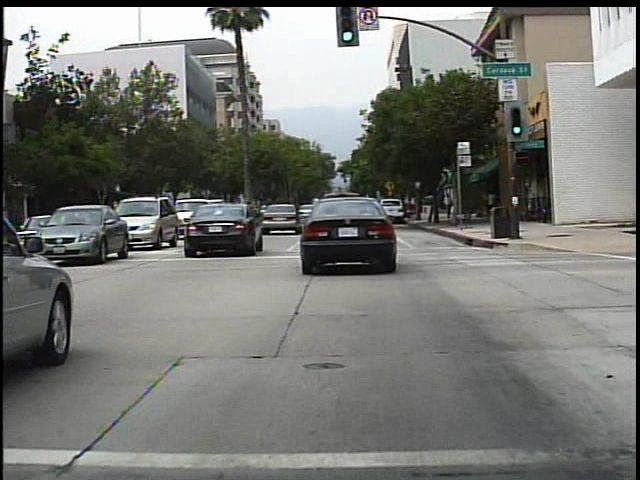person: (439, 190, 459, 223)
